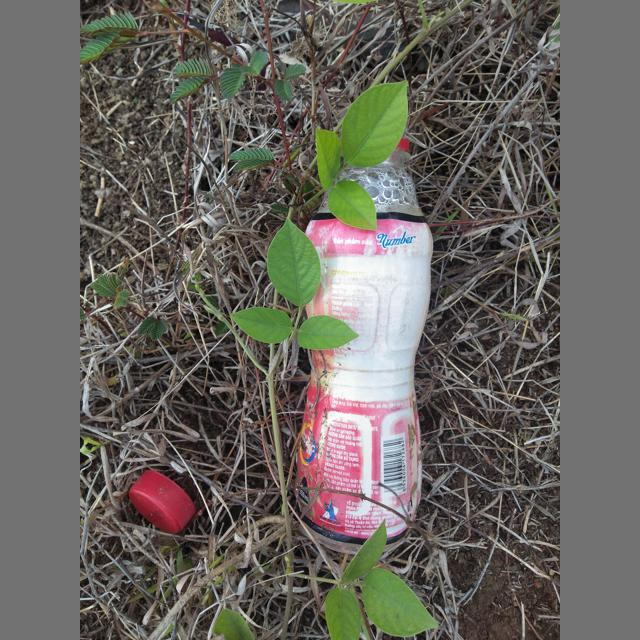litter: (295, 128, 433, 554), (129, 470, 196, 534)
